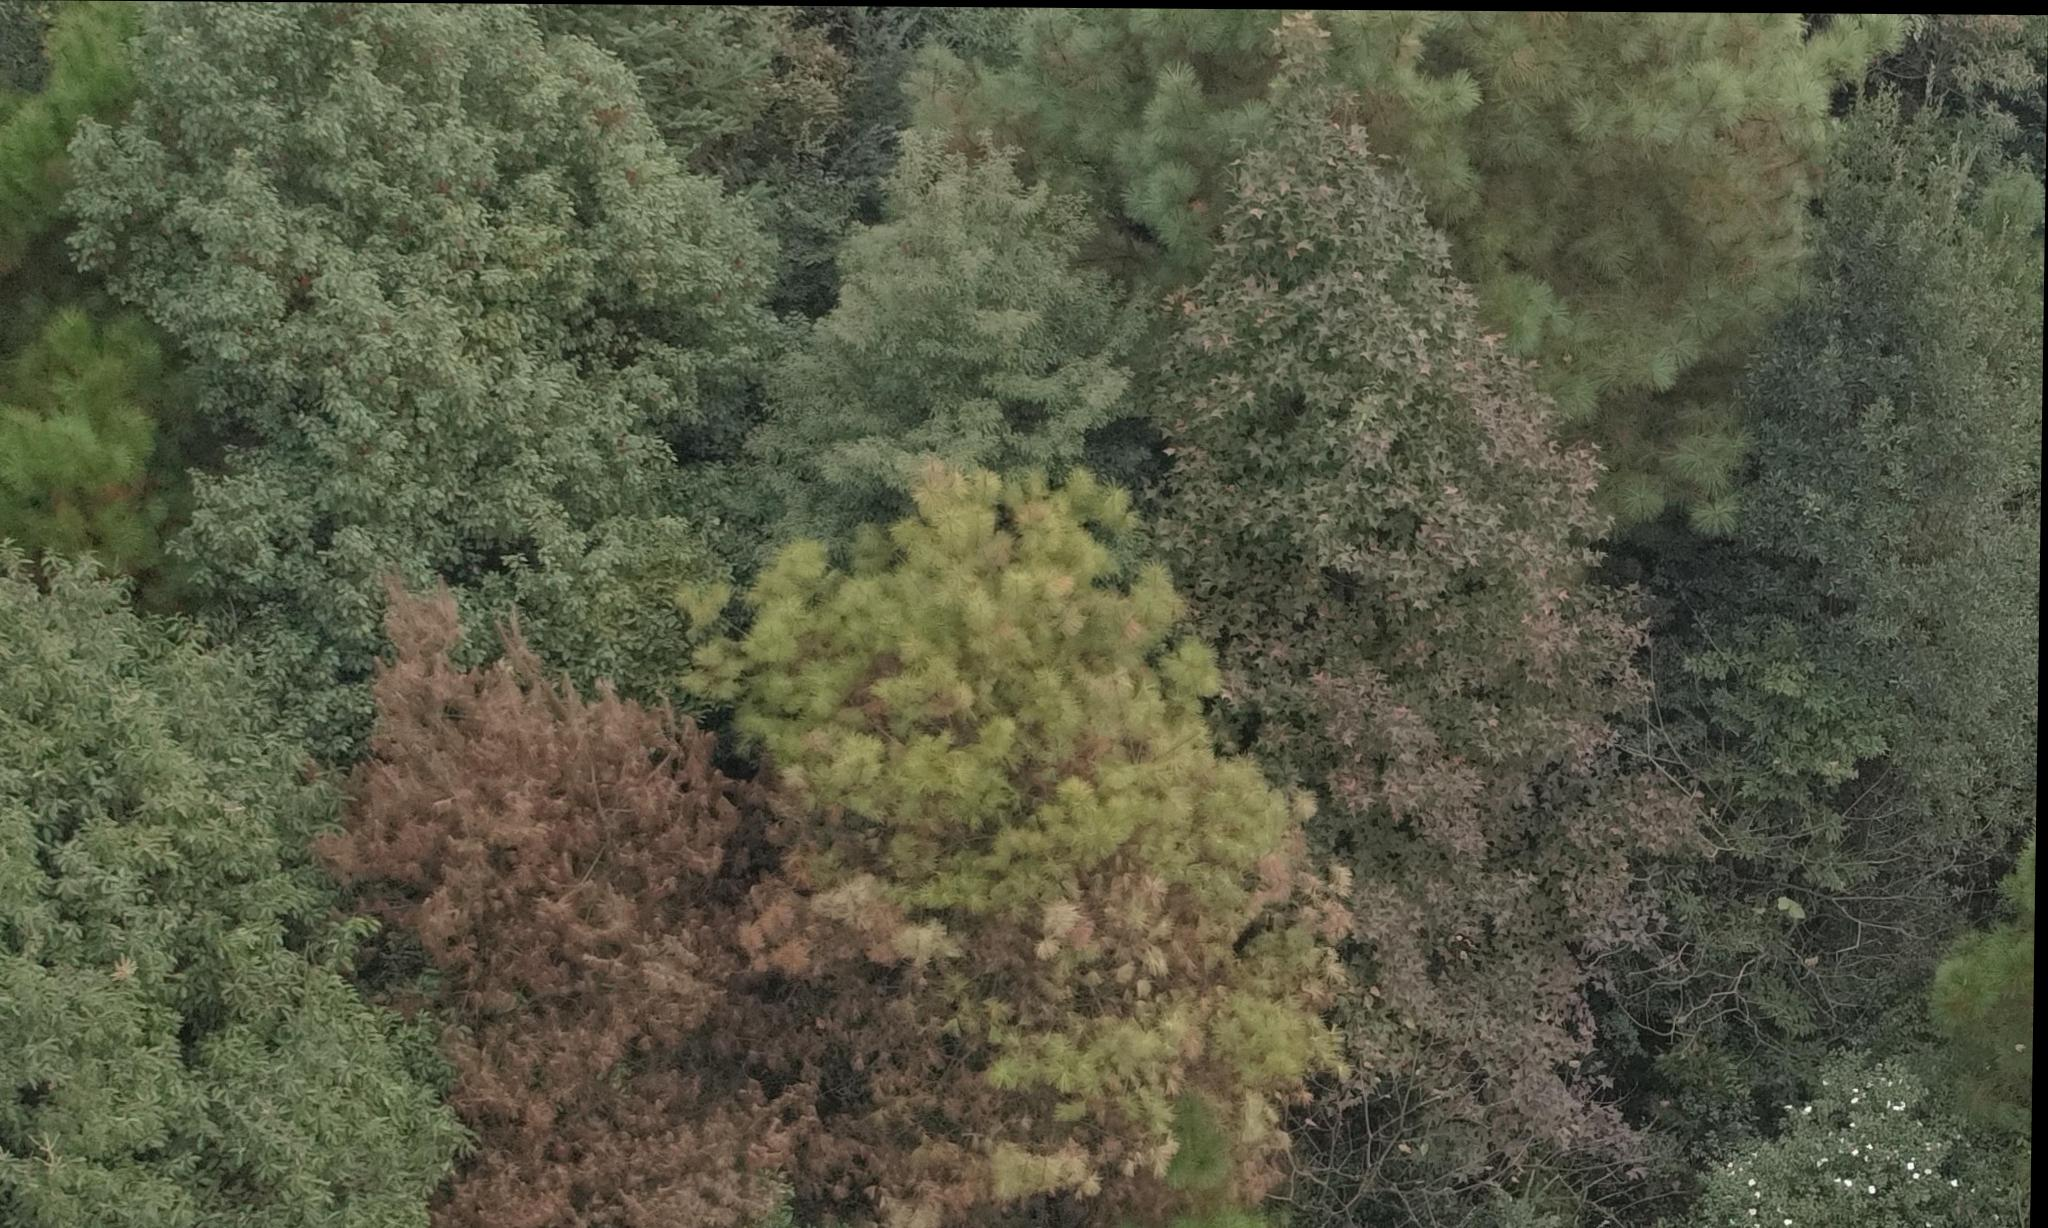heavy: (307, 573, 770, 1215)
light: (791, 632, 1348, 1218)
